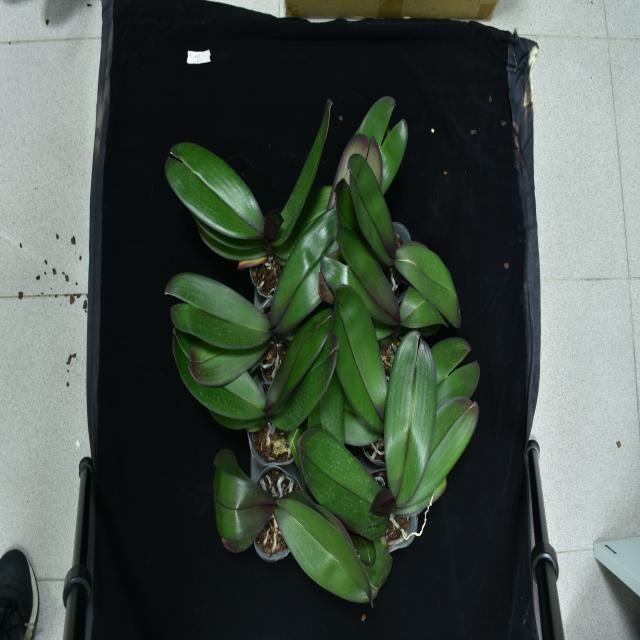leaf: (282, 490, 372, 610), (166, 146, 267, 246), (293, 426, 394, 526), (164, 331, 270, 426), (386, 326, 434, 508), (161, 275, 272, 348), (335, 275, 386, 425), (272, 223, 341, 328), (271, 324, 334, 426), (391, 239, 463, 324), (208, 469, 275, 553), (348, 154, 396, 259), (366, 90, 409, 154)
